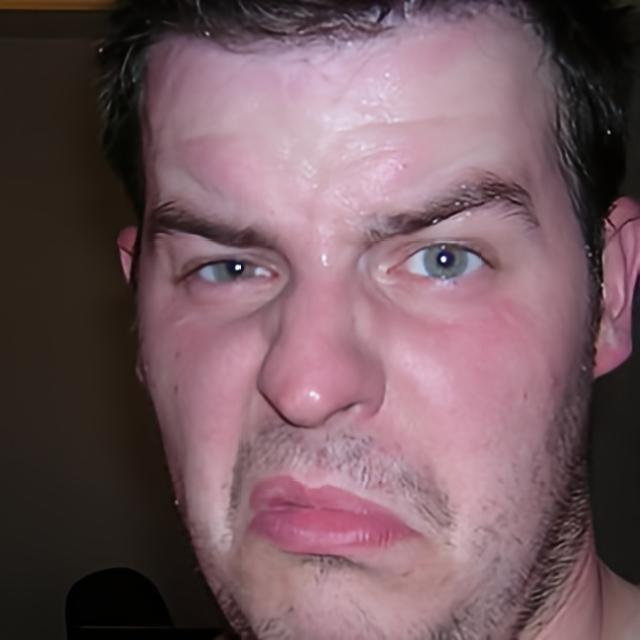disgust: (133, 0, 592, 640)
